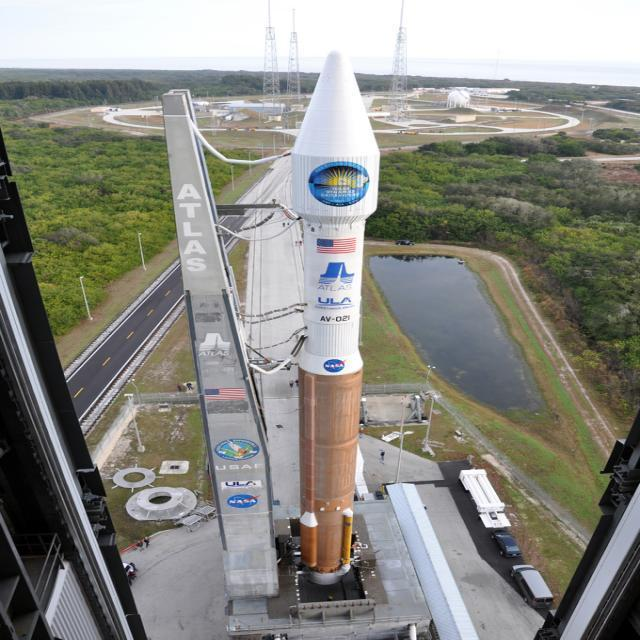Missile: (287, 54, 378, 581)
